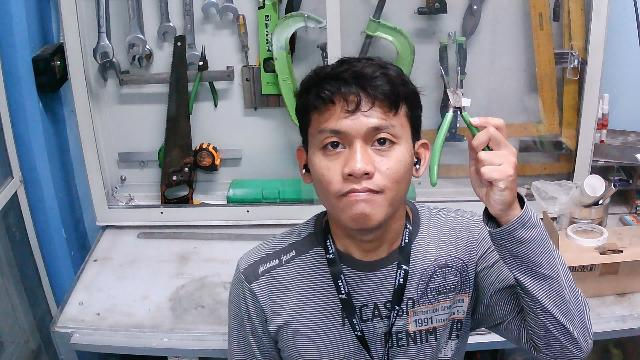tang_cucut_lancip_1: (424, 58, 497, 196)
